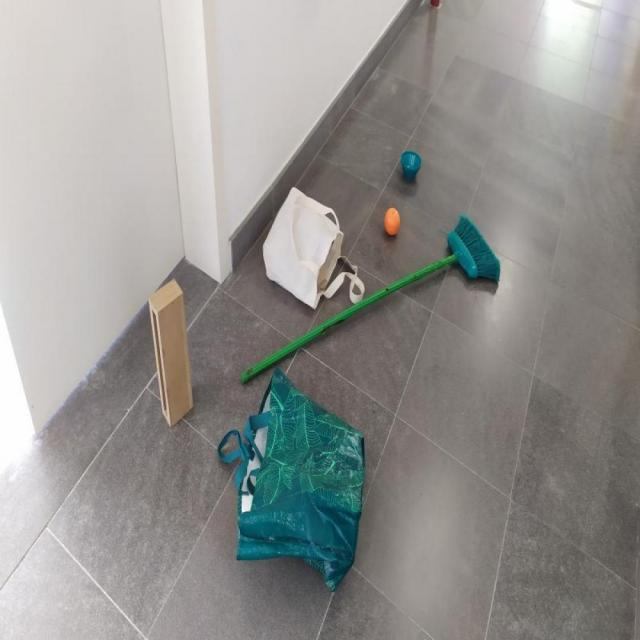Bag: (216, 338, 364, 586), (263, 183, 366, 309)
Bowl: (402, 150, 422, 182)
Orange: (384, 206, 402, 237)
